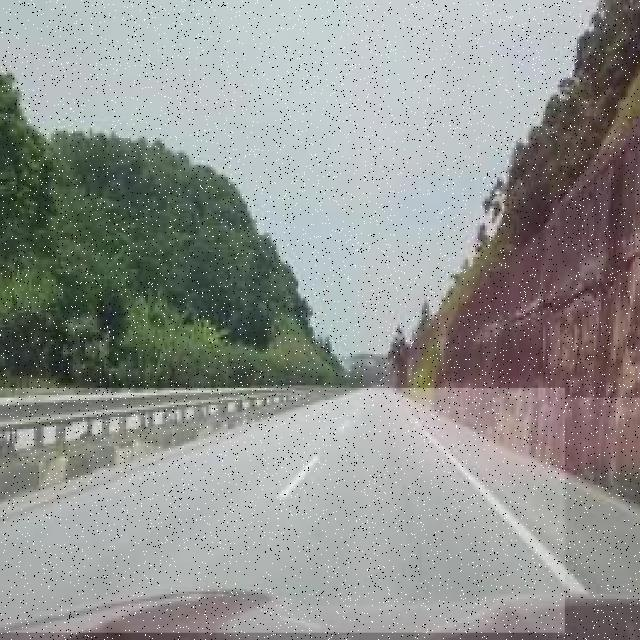clear-road: (0, 389, 565, 630), (402, 399, 640, 597)
